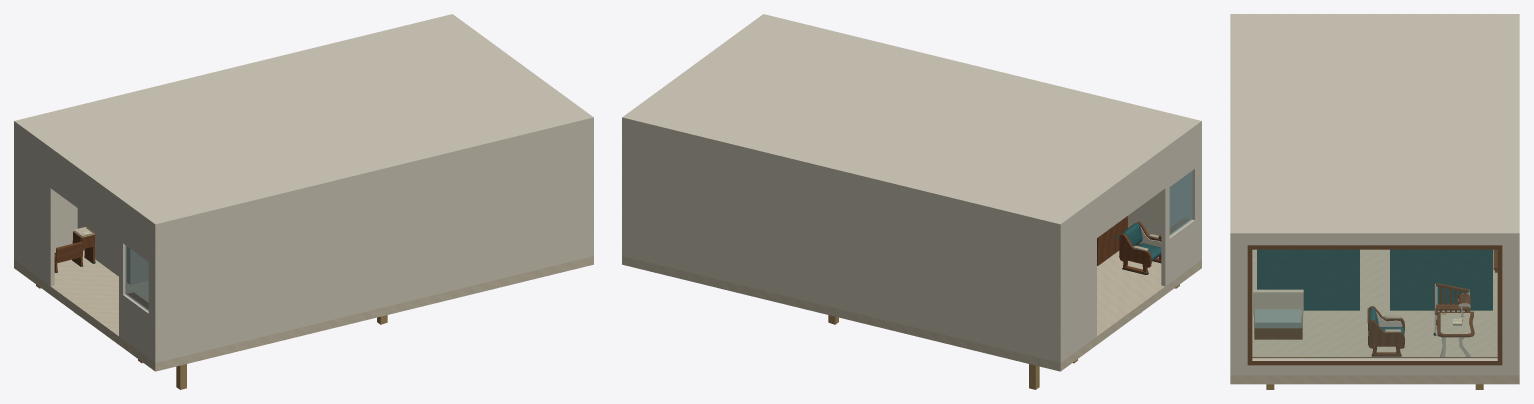
File: NG572_PanoramicSuite_r001.glb
3 views of the same model, side by side, from view 1: azimuth 30°, elevation 25°; view 2: azimuth 150°, elevation 25°; view 3: azimuth 270°, elevation 25° (orthographic). The views are drawn at different scales.
Parts seen in each view (by area): view 1: NG572_RuntimeBatch_001, NG572_RoomFloor, NG572_ScreenedStreetGlass, NG572_RuntimeBatch_013; view 2: NG572_RuntimeBatch_001, NG572_RoomFloor, NG572_ScreenedStreetGlass, NG572_RuntimeBatch_049, NG572_RuntimeBatch_002; view 3: NG572_RuntimeBatch_001, NGP_572_PrivateViewPane, NG572_RoomFloor, NG572_RuntimeBatch_006, NGP_572_Frame_Sill, NGP_572_Frame_Head, NGP_572_ViewSeat_Back, NG572_RuntimeBatch_028, NGP_572_ViewSeat_Cushion, NG572_RuntimeBatch_007, NGP_572_Frame_Left, NGP_572_Frame_Right (+3 smaller).
Boxes of the visible parts, box(x1,y1,x2,y2) form: NG572_RuntimeBatch_001: box(14, 14, 593, 362); NG572_RoomFloor: box(14, 250, 593, 371); NG572_ScreenedStreetGlass: box(125, 245, 148, 310); NG572_RuntimeBatch_013: box(54, 231, 95, 271); NG572_RuntimeBatch_001: box(622, 14, 1201, 362); NG572_RoomFloor: box(622, 251, 1201, 371); NG572_ScreenedStreetGlass: box(1169, 171, 1192, 235); NG572_RuntimeBatch_049: box(1119, 221, 1161, 274); NG572_RuntimeBatch_002: box(1097, 216, 1190, 265); NG572_RuntimeBatch_001: box(1230, 14, 1519, 375); NGP_572_PrivateViewPane: box(1252, 250, 1497, 358); NG572_RoomFloor: box(1230, 249, 1519, 384); NG572_RuntimeBatch_006: box(1257, 249, 1492, 310); NGP_572_Frame_Sill: box(1247, 357, 1502, 365); NGP_572_Frame_Head: box(1247, 245, 1502, 249); NGP_572_ViewSeat_Back: box(1253, 289, 1303, 315); NG572_RuntimeBatch_028: box(1367, 306, 1404, 355); NGP_572_ViewSeat_Cushion: box(1255, 309, 1301, 328); NG572_RuntimeBatch_007: box(1435, 283, 1474, 337); NGP_572_Frame_Left: box(1497, 249, 1502, 360); NGP_572_Frame_Right: box(1247, 249, 1252, 360).
Size of the model in its own units: 12.9 by 5.31 by 7.2.
77 materials, 49 textured.
